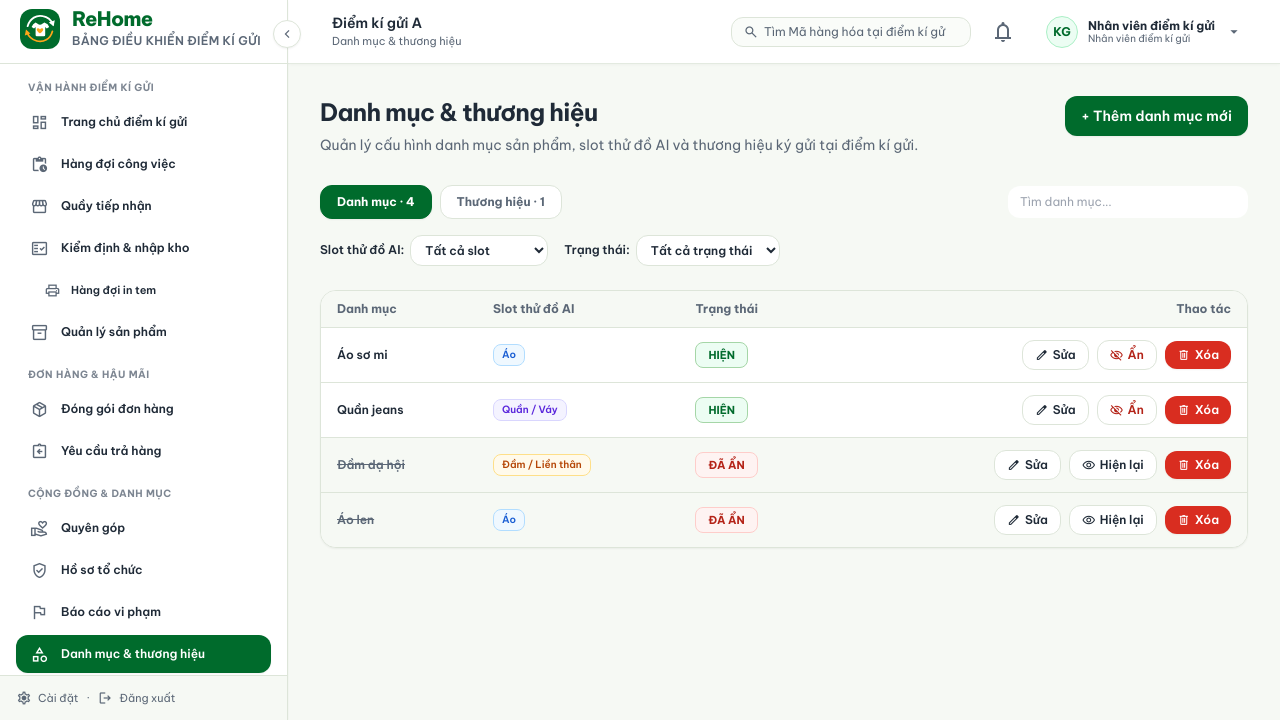
Test case: CategoryBrandPage - Multi-dimensional Filter (DM-01) › filters categories by Status (ACTIVE vs HIDDEN)
The width and height of the screenshot is (1280, 720).
Expected: the text "Áo sơ mi" is shown, [337,347,388,362]
Step 1. Select "Đang hiện" in the dropdown named "Lọc trạng thái" → coordinates (708, 250), box [636,235,780,266]
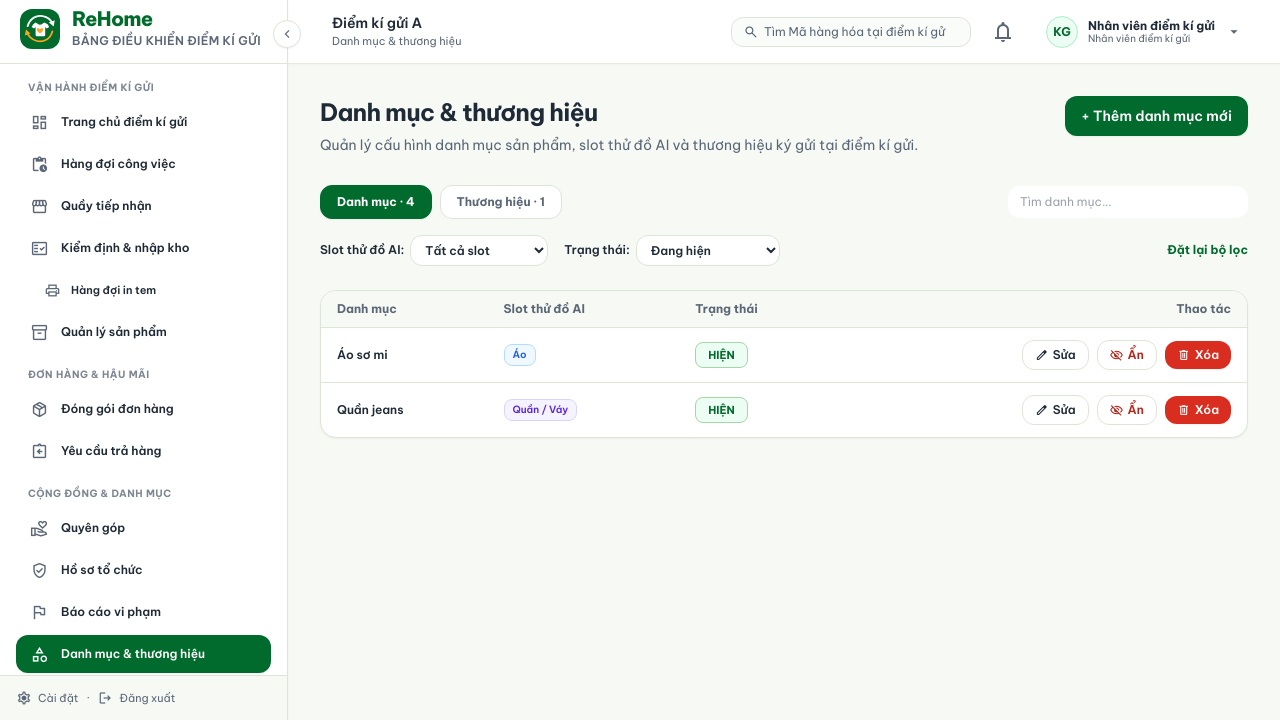
Expected: the text "Áo sơ mi" is shown, [337,347,388,362]
Expected: the text "Đầm dạ hội" is gone
Expected: the text "Áo len" is gone
Step 2. Select "Đã ẩn" in the dropdown named "Lọc trạng thái" → coordinates (708, 250), box [636,235,780,266]
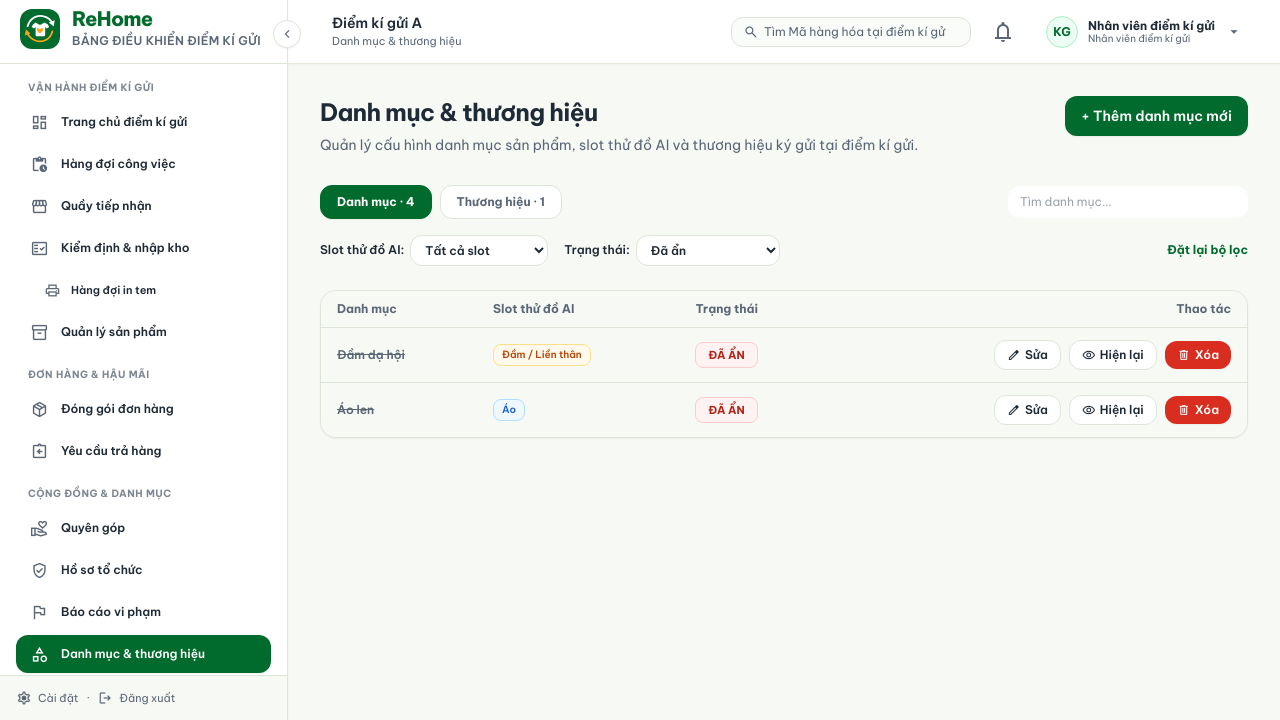
Expected: the text "Áo sơ mi" is gone
Expected: the text "Quần jeans" is gone
Expected: the text "Đầm dạ hội" is shown, [337,347,405,362]
